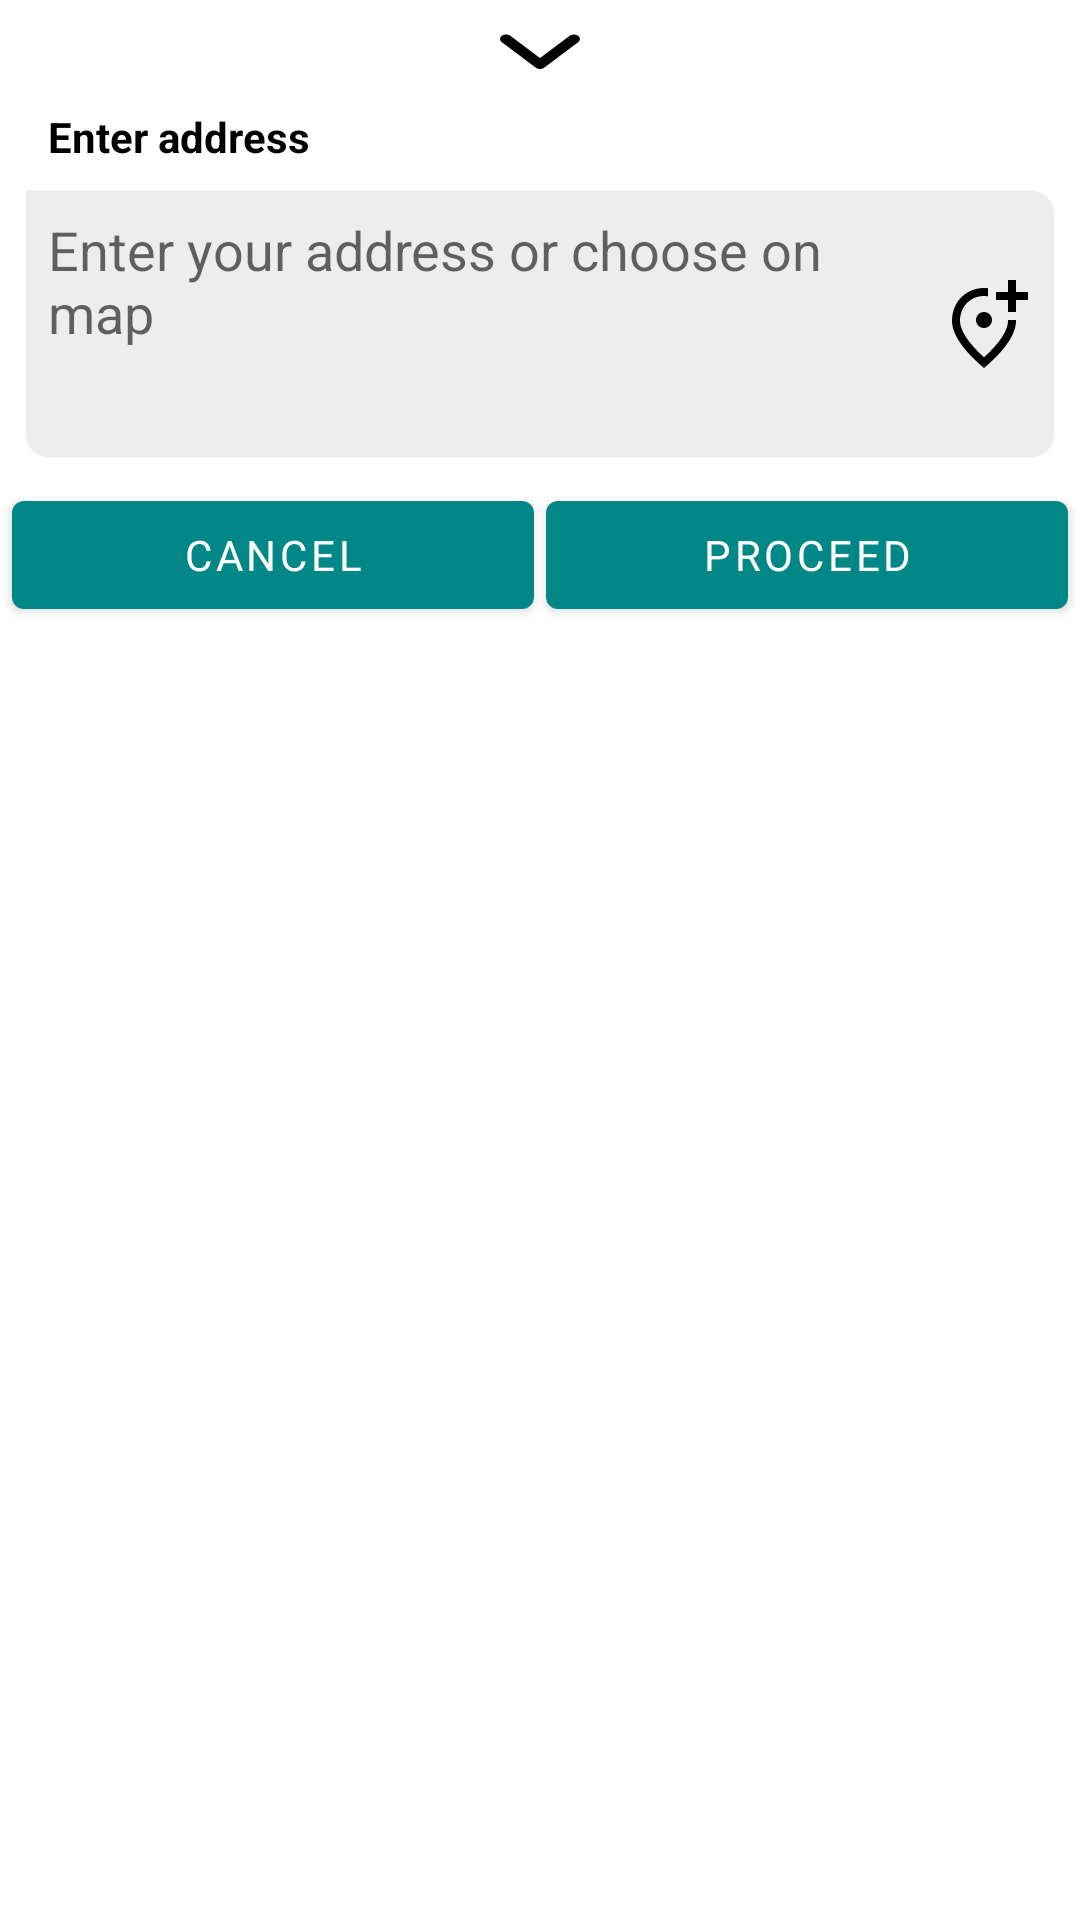

Named icons in this screenshot (1080px x 1920px) and their centers, (x,y):
downarrow: (540,51)
